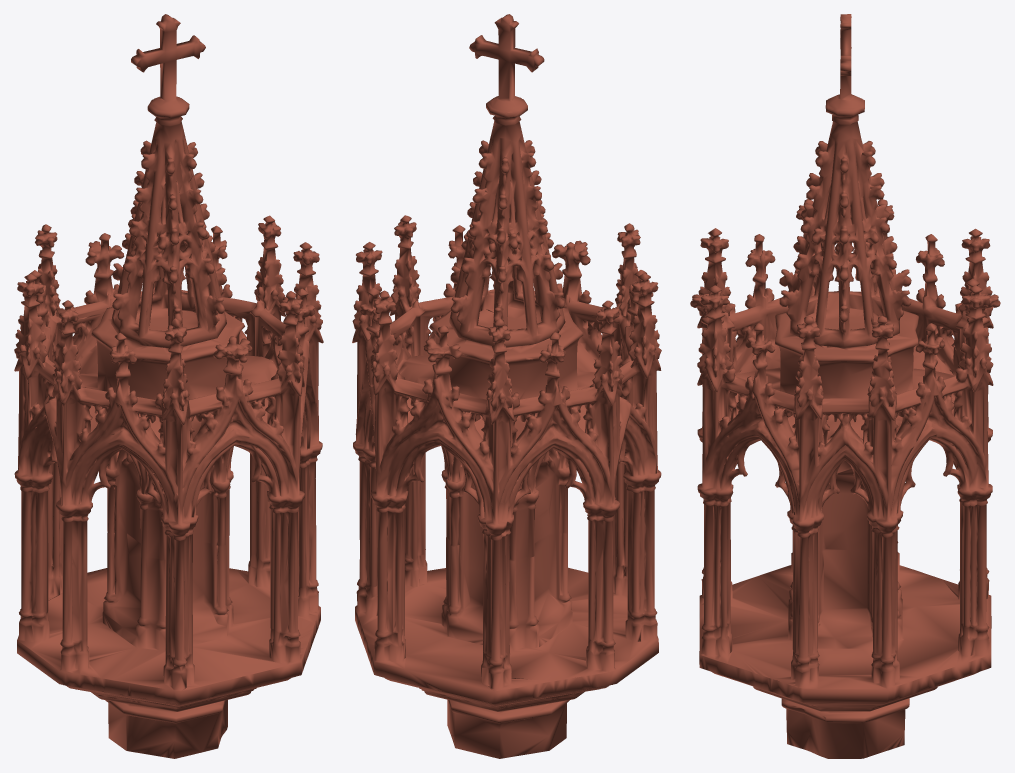
File: gen-gothic-tabernacle-canopy-1.glb
3 renders of one model, left to right at view 1: azimuth 30°, elevation 25°; view 2: azimuth 150°, elevation 25°; view 3: azimuth 270°, elevation 25°, orthographic.
Visible parts, largest first — view 1: gen-gothic-tabernacle-canopy-1_part1; view 2: gen-gothic-tabernacle-canopy-1_part1; view 3: gen-gothic-tabernacle-canopy-1_part1.
Part boxes in pixels (x1=…): gen-gothic-tabernacle-canopy-1_part1: x1=14, y1=14, x2=323, y2=758; gen-gothic-tabernacle-canopy-1_part1: x1=352, y1=14, x2=661, y2=758; gen-gothic-tabernacle-canopy-1_part1: x1=690, y1=14, x2=1000, y2=758.
Bounding box in the file's own units: 656 × 1710 × 668.
